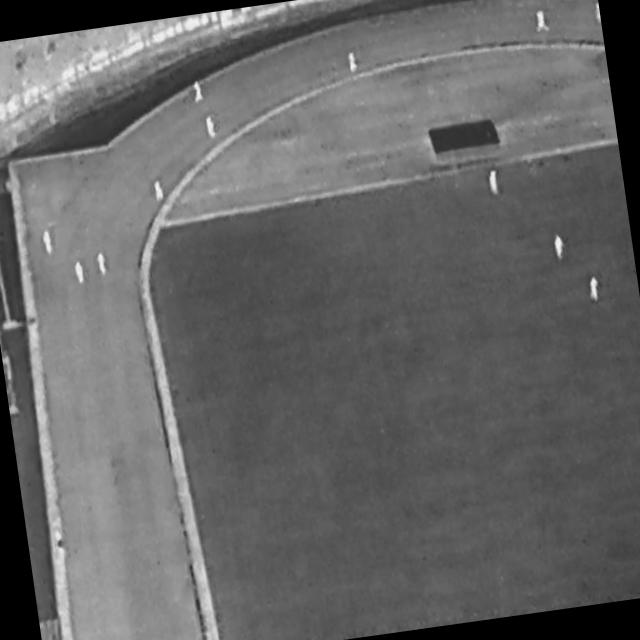person: (42, 229, 56, 258), (56, 530, 68, 561), (74, 260, 88, 286), (535, 11, 550, 35), (489, 169, 502, 196), (553, 234, 566, 261), (590, 276, 603, 303), (193, 81, 206, 106), (206, 116, 218, 142), (153, 180, 165, 204), (98, 252, 109, 277), (348, 51, 359, 76), (594, 2, 602, 23)
